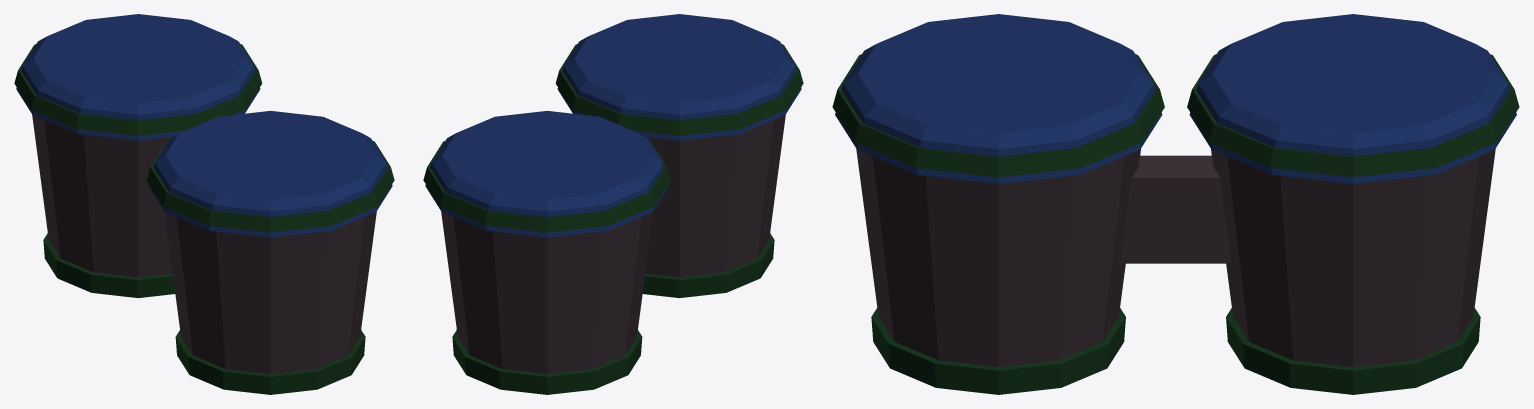
Rendered from Bongo.fbx.
The picture shows the model from 3 angles, left to right: view 1: azimuth 30°, elevation 25°; view 2: azimuth 150°, elevation 25°; view 3: azimuth 270°, elevation 25°; orthographic projection. The views are drawn at different scales.
Parts seen in each view (by area): view 1: pCube2; view 2: pCube2; view 3: pCube2.
Part boxes in pixels (x1=…): pCube2: x1=14, y1=14, x2=394, y2=394; pCube2: x1=423, y1=14, x2=803, y2=394; pCube2: x1=832, y1=14, x2=1519, y2=394.
Size of the model in its own units: 188 by 167 by 388.
